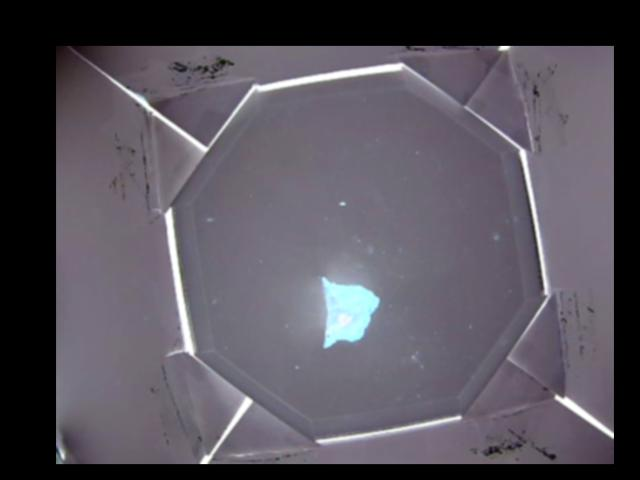Brisk: (320, 274, 379, 348)
